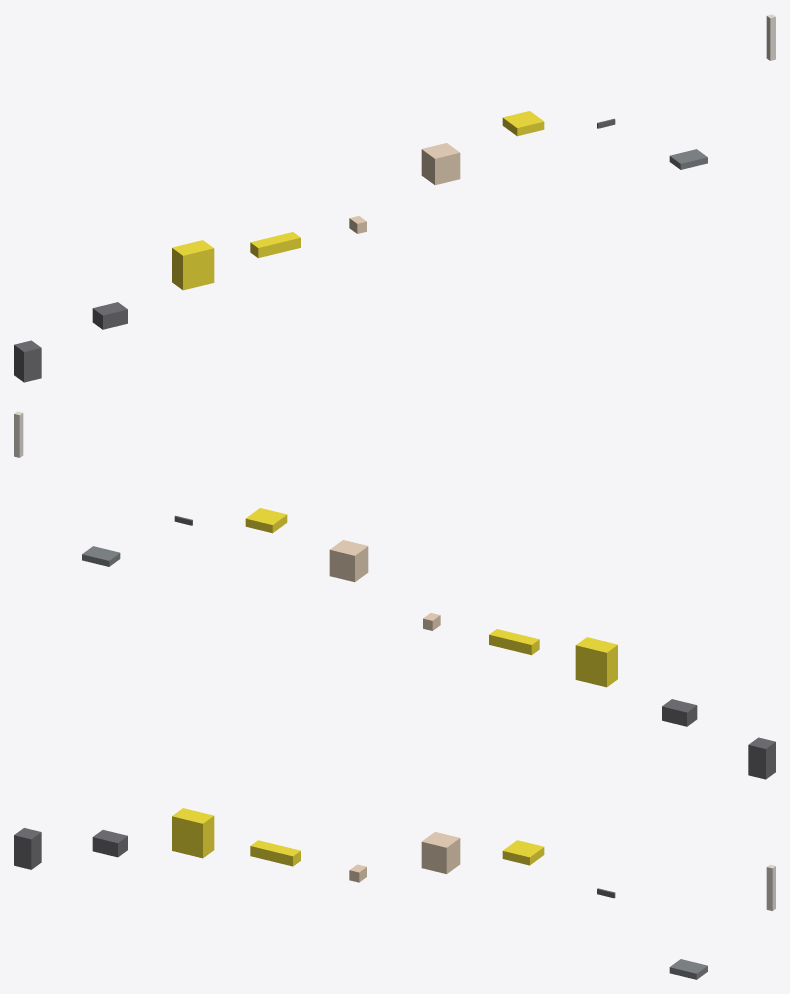
File: aggy_voxel_hero_hunter.glb
3 renders of one model, top to bottom at view 1: azimuth 30°, elevation 25°; view 2: azimuth 150°, elevation 25°; view 3: azimuth 330°, elevation 25°, orthographic.
Parts seen in each view (by area): view 1: VXH_Torso, VXH_Head, VXH_Legs, VXH_Arms, VXH_Pelvis, VXH_Cap; view 2: VXH_Torso, VXH_Head, VXH_Legs, VXH_Arms, VXH_Pelvis, VXH_Cap; view 3: VXH_Torso, VXH_Head, VXH_Legs, VXH_Arms, VXH_Pelvis, VXH_Cap, VXH_Belt, VXH_Prop_Bat.
Part boxes in pixels (bbox=[...]): VXH_Torso: bbox=[172, 240, 214, 290]; VXH_Head: bbox=[421, 143, 460, 185]; VXH_Legs: bbox=[14, 340, 41, 382]; VXH_Arms: bbox=[250, 232, 300, 258]; VXH_Pelvis: bbox=[92, 302, 127, 329]; VXH_Cap: bbox=[502, 111, 544, 136]; VXH_Torso: bbox=[575, 637, 617, 687]; VXH_Head: bbox=[329, 540, 368, 582]; VXH_Legs: bbox=[748, 737, 775, 779]; VXH_Arms: bbox=[489, 629, 539, 655]; VXH_Pelvis: bbox=[662, 699, 697, 726]; VXH_Cap: bbox=[245, 508, 287, 533]; VXH_Torso: bbox=[172, 808, 214, 858]; VXH_Head: bbox=[421, 832, 460, 874]; VXH_Legs: bbox=[14, 828, 41, 869]; VXH_Arms: bbox=[250, 840, 300, 866]; VXH_Pelvis: bbox=[92, 830, 127, 857]; VXH_Cap: bbox=[502, 840, 544, 865]; VXH_Belt: bbox=[669, 959, 707, 979]; VXH_Prop_Bat: bbox=[766, 864, 775, 910].
Size of the model in its own units: 7.77 by 1.76 by 0.26.
